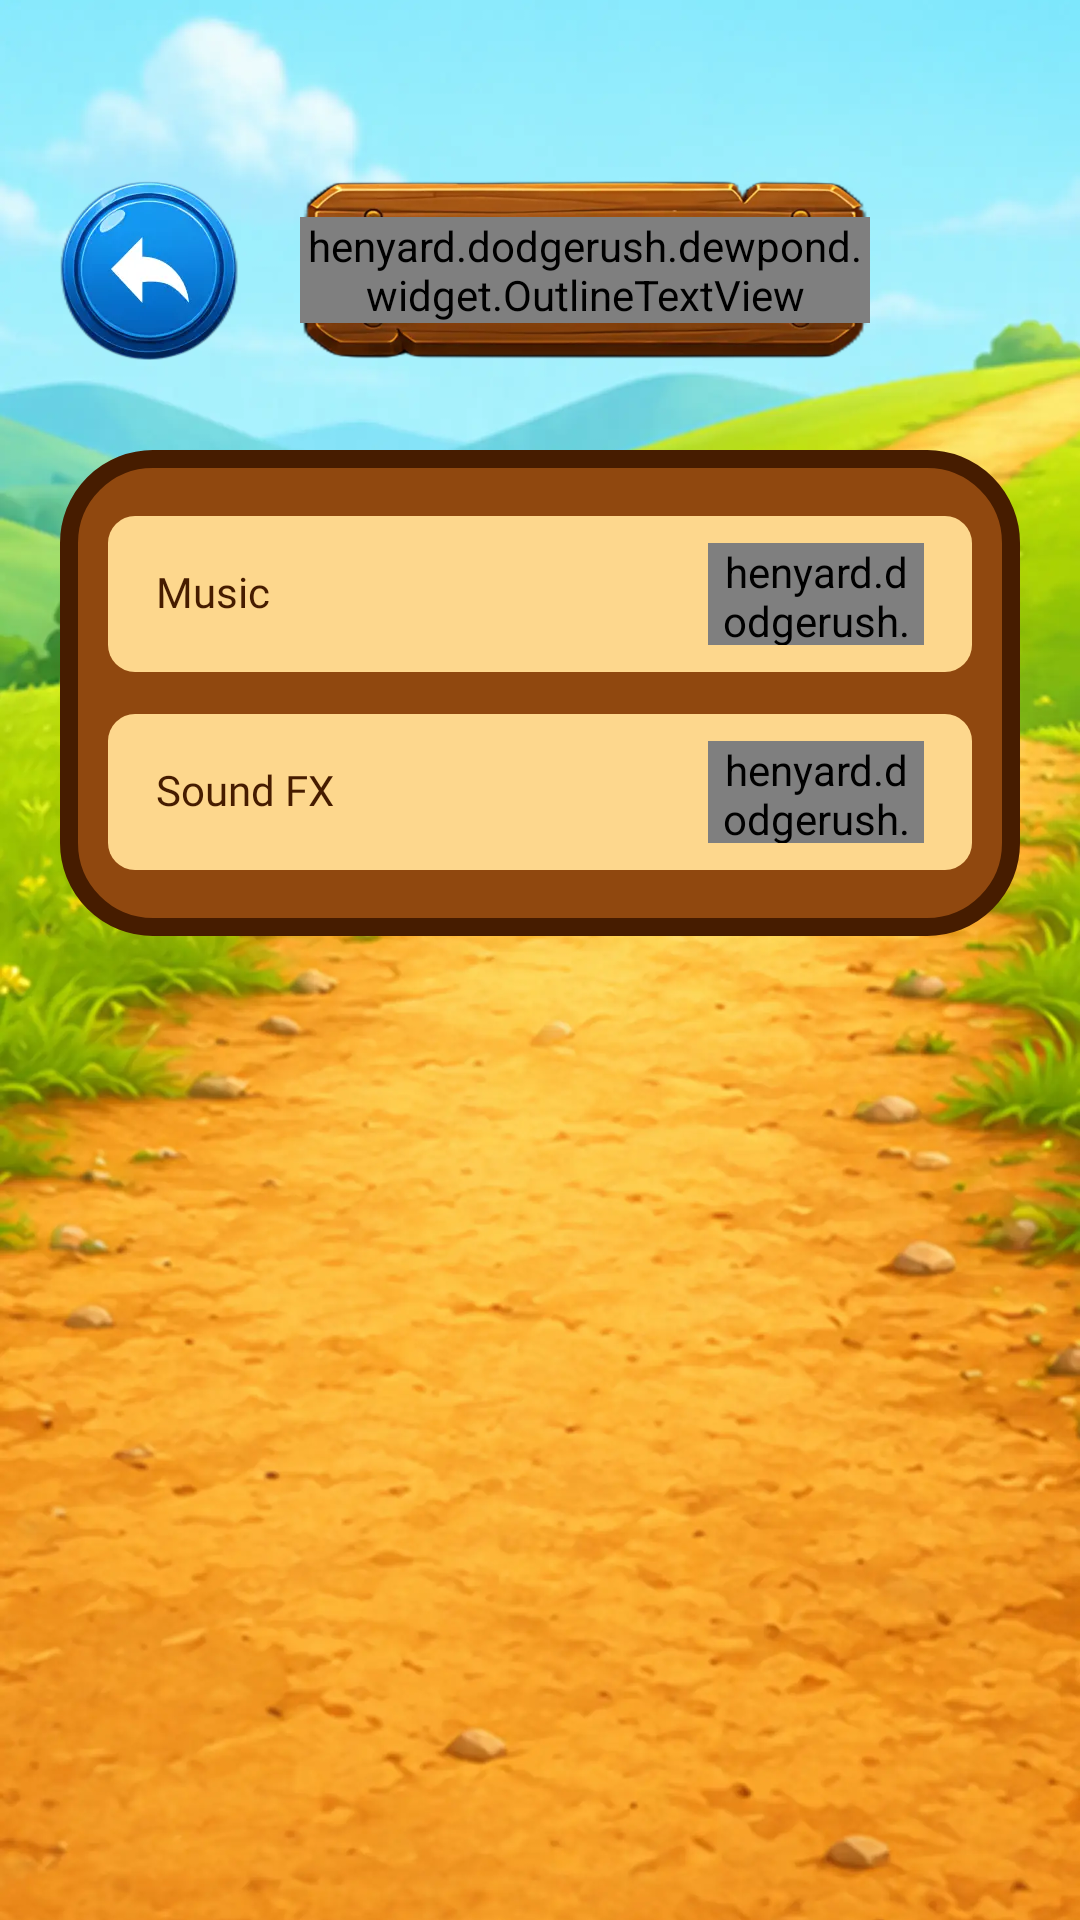

Point at icon controls on the screen. Image size 1080w x 1920h, points as (x,y).
Back: (149,271)
